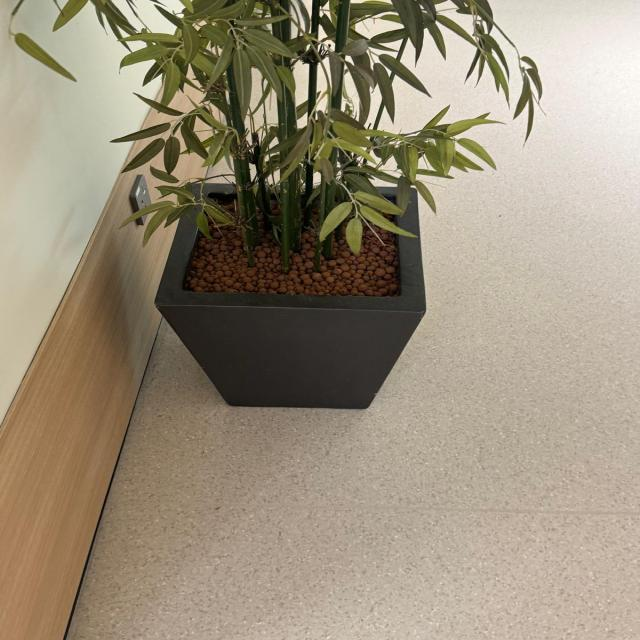Pot: (155, 183, 425, 410)
